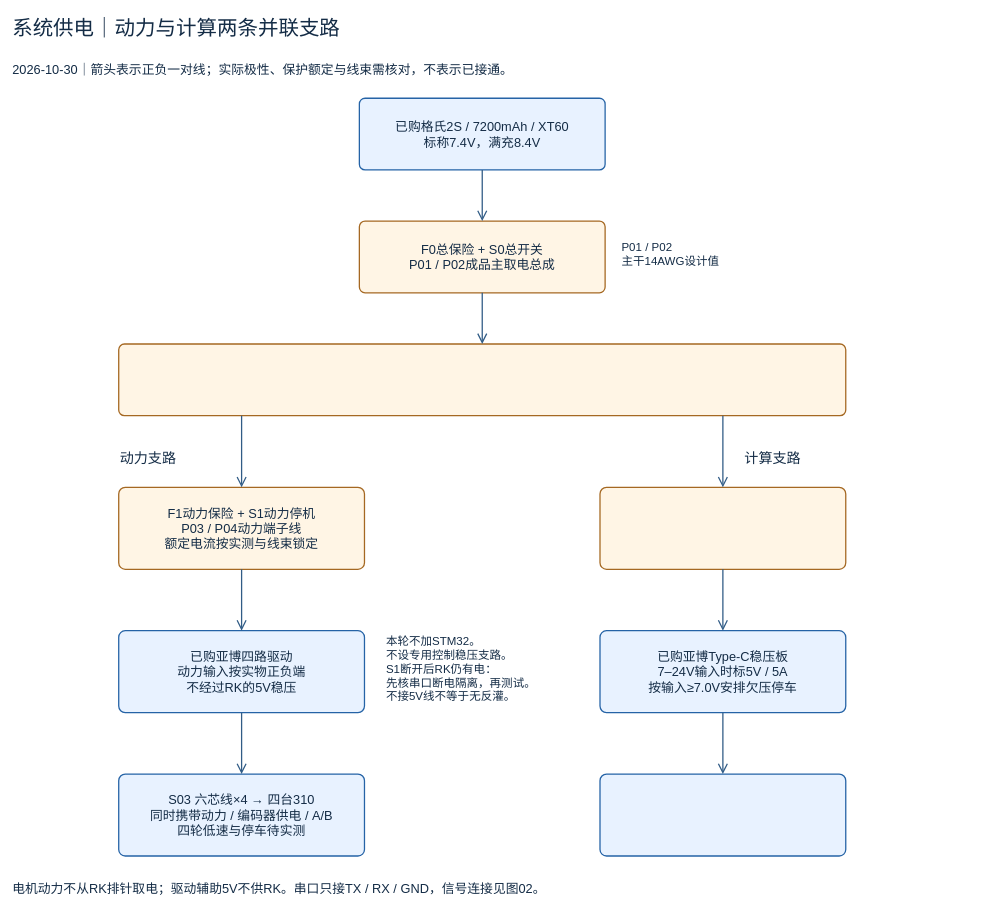
The diagram is 995 pixels wide and 918 high, and some of its shapes have lost their labels. Here are the shapes that lost their labels. From the top down, the box of each, then its label:
(118, 343, 846, 416): 绝缘分电：正母线、负母线分组 动力负线直接回分电；不沿RK细信号地回流
(599, 486, 846, 570): F2计算支路保险 P05 → 稳压板IN+ / IN− 18AWG为设计预算，待核
(599, 773, 846, 856): P06 5A短C-C → RK Power口 P07/S01相机，P08原配风扇 RK与外设合计供电额度需核
